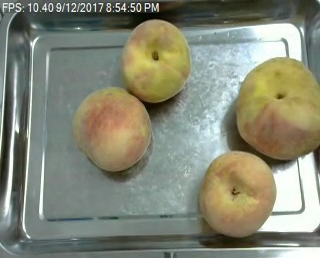Peach: (235, 55, 320, 159), (198, 149, 277, 238), (72, 87, 151, 172), (120, 19, 191, 101)
